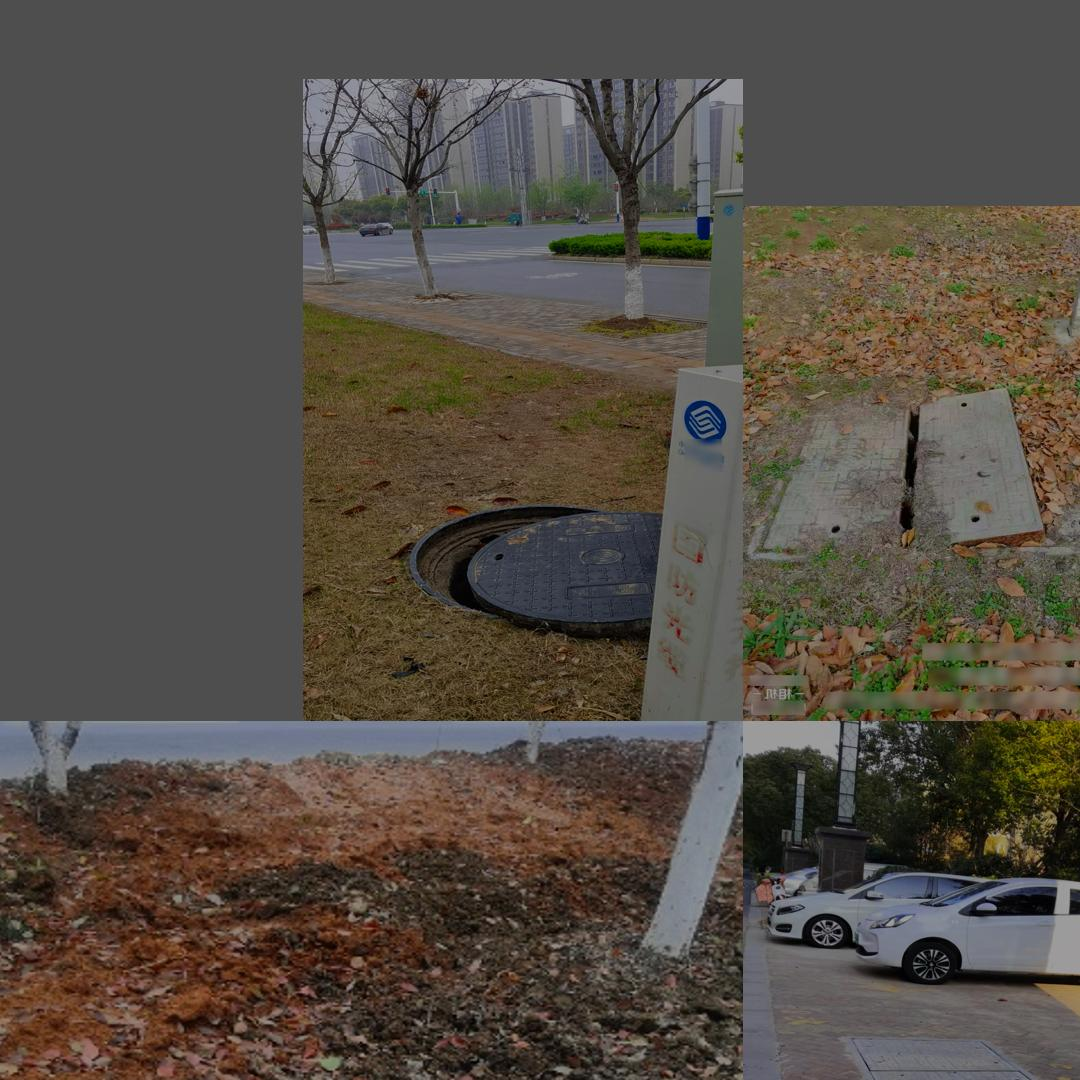good: (847, 1033, 1045, 1080)
uncovered: (749, 387, 1080, 561), (394, 485, 676, 623)
